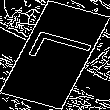L_E: (15, 31, 95, 79)
